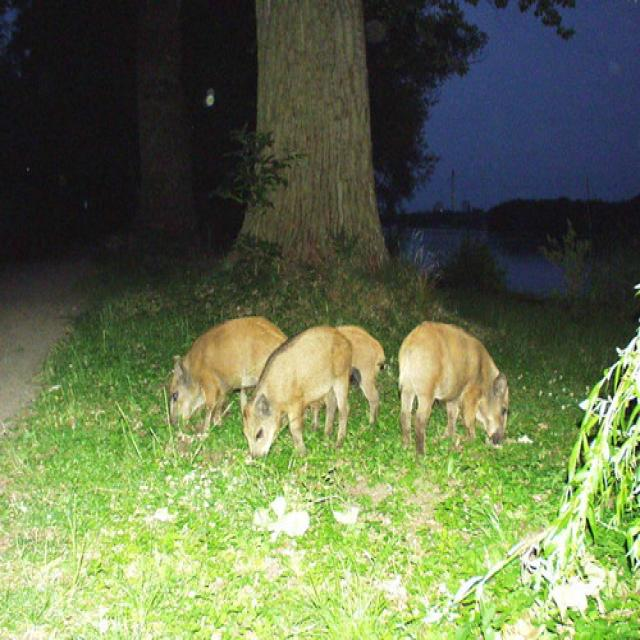boar: (225, 318, 358, 480), (147, 308, 297, 436), (388, 314, 518, 458), (278, 320, 388, 429)
